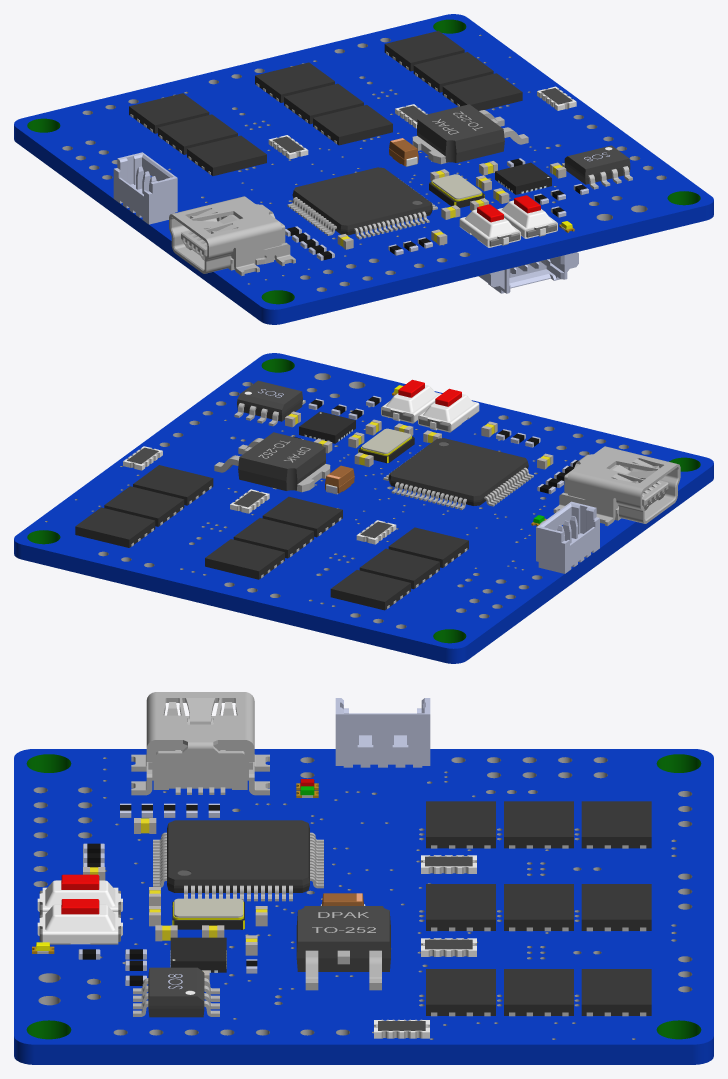
File: PCB.glb
3 views of the same model, one above another, from view 1: azimuth 30°, elevation 25°; view 2: azimuth 150°, elevation 25°; view 3: azimuth 270°, elevation 25° (orthographic). The views are drawn at different scales.
Parts seen in each view (by area): view 1: Storm32; view 2: Storm32; view 3: Storm32.
Boxes of the visible parts, <box> form: Storm32: <box>14,14,713,324</box>; Storm32: <box>14,353,713,663</box>; Storm32: <box>14,692,713,1064</box>.
Size of the model in its own units: 0.0511 by 0.0092 by 0.05.
